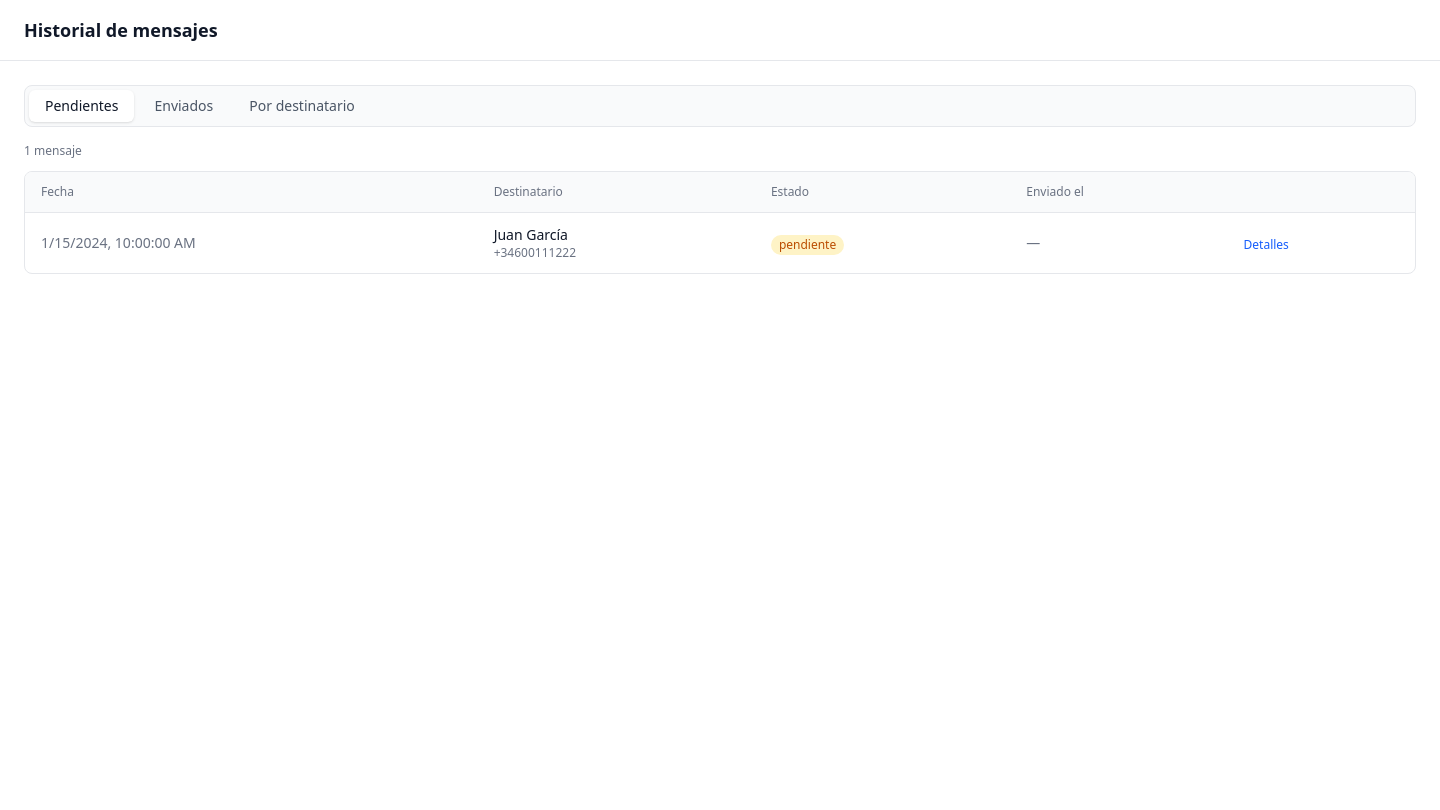
Test case: OutboxPage › opens detail modal when Detalles is clicked
Click the button "Detalles": point(1266, 245) [1244,237,1289,253]
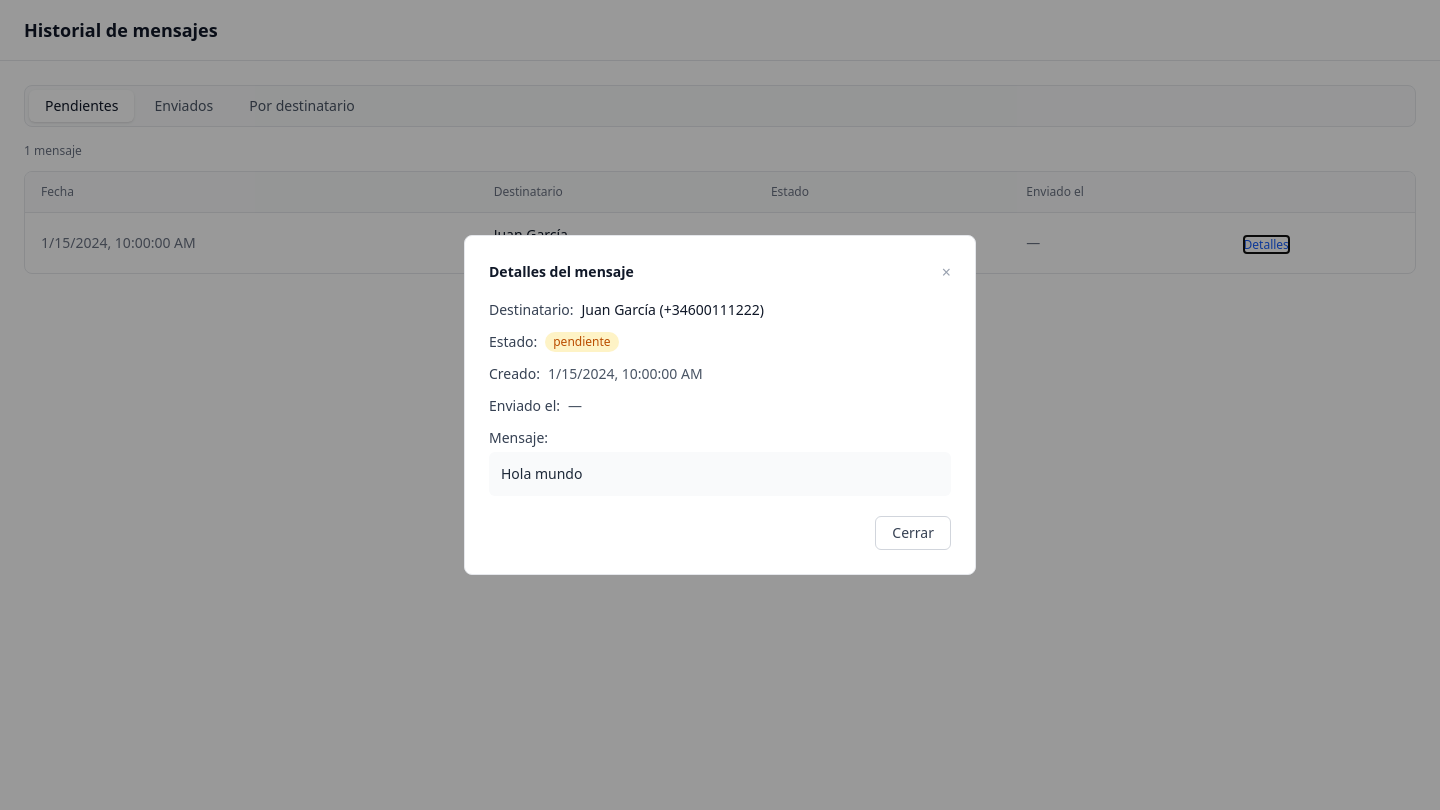
Expected: the heading "Detalles del mensaje" is shown, [489,262,634,282]
Expected: the text "Hola mundo" is shown, [489,452,951,496]
